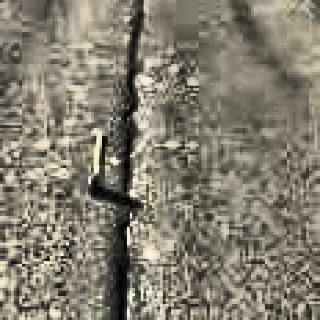crack: (109, 0, 154, 320)
